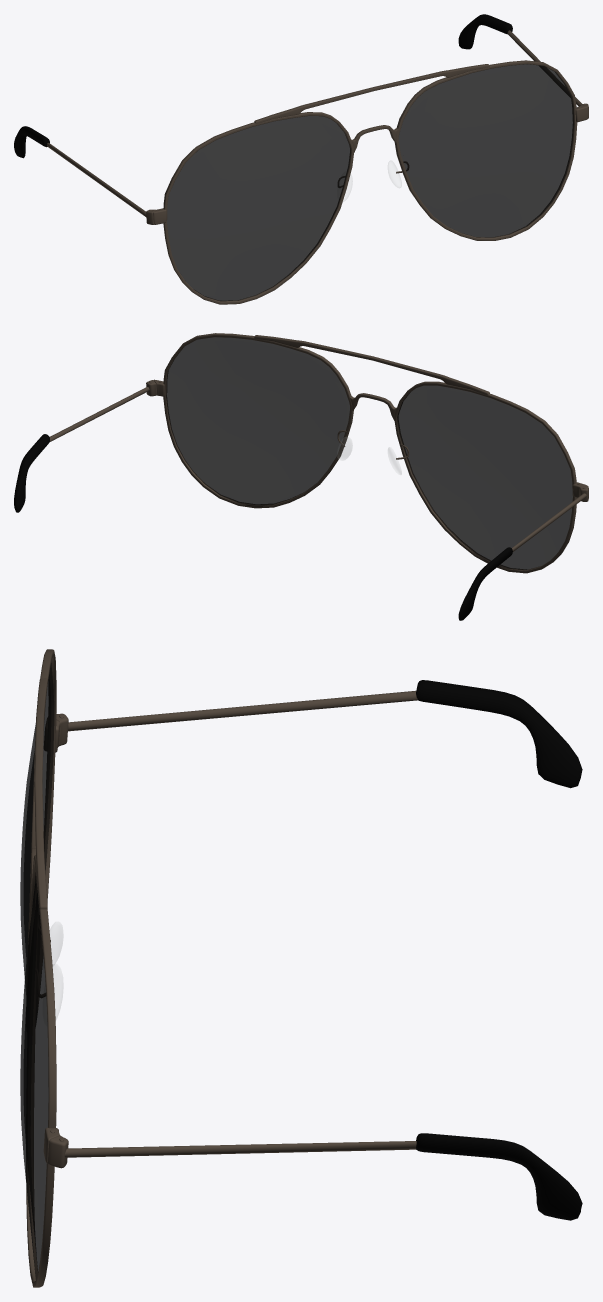
The model's file is sunglasses.fbx.
3 renders of one model, top to bottom at view 1: azimuth 30°, elevation 25°; view 2: azimuth 150°, elevation 25°; view 3: azimuth 270°, elevation 25°, orthographic. The views are drawn at different scales.
Parts seen in each view (by area): view 1: polySurface20; view 2: polySurface20; view 3: polySurface20.
Boxes of the visible parts, left/top/right/bottom form: polySurface20: left=14, top=14, right=588, bottom=304; polySurface20: left=14, top=333, right=588, bottom=620; polySurface20: left=20, top=649, right=582, bottom=1287.
Bounding box in the file's own units: 34.18 × 12.66 × 17.71.
